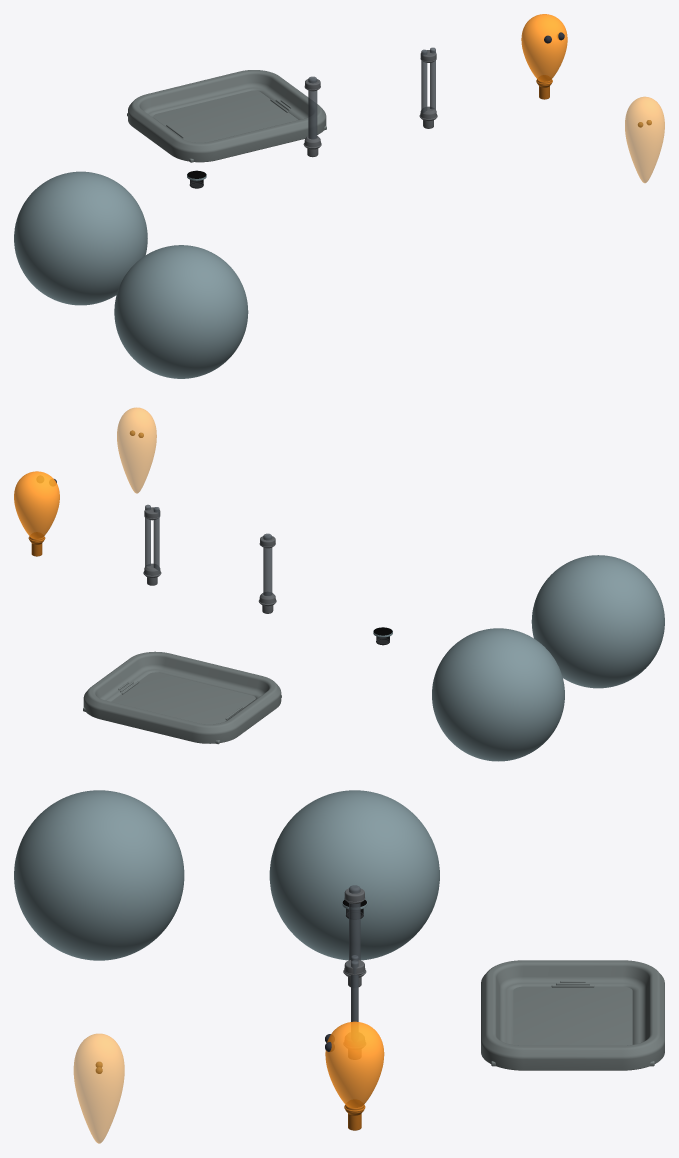
Rendered from studio-parts.glb.
3 renders of one model, top to bottom at view 1: azimuth 30°, elevation 25°; view 2: azimuth 150°, elevation 25°; view 3: azimuth 270°, elevation 25°, orthographic. The views are drawn at different scales.
Visible parts, largest first — view 1: Atom_cad, Atom_sculpt, Compartment_wall, Compartment_pad, Cad_lobe, Pair_lobe, Link_rail; view 2: Atom_sculpt, Atom_cad, Compartment_wall, Compartment_pad, Cad_lobe, Pair_lobe, Link_rail; view 3: Atom_cad, Atom_sculpt, Compartment_wall, Compartment_pad, Cad_lobe, Pair_lobe, Link_rail.
Part boxes in pixels (x1=…): Atom_cad: x1=114, y1=245, x2=248, y2=378; Atom_sculpt: x1=14, y1=171, x2=147, y2=305; Compartment_wall: x1=128, y1=70, x2=326, y2=162; Compartment_pad: x1=127, y1=90, x2=326, y2=162; Cad_lobe: x1=625, y1=96, x2=664, y2=182; Pair_lobe: x1=521, y1=14, x2=567, y2=81; Link_rail: x1=308, y1=76, x2=317, y2=139; Atom_sculpt: x1=432, y1=628, x2=564, y2=761; Atom_cad: x1=531, y1=555, x2=664, y2=688; Compartment_wall: x1=83, y1=651, x2=281, y2=743; Compartment_pad: x1=83, y1=672, x2=281, y2=744; Cad_lobe: x1=117, y1=407, x2=156, y2=493; Pair_lobe: x1=14, y1=471, x2=59, y2=538; Link_rail: x1=263, y1=533, x2=272, y2=595; Atom_cad: x1=14, y1=790, x2=184, y2=960; Atom_sculpt: x1=269, y1=790, x2=439, y2=960; Compartment_wall: x1=481, y1=960, x2=664, y2=1070; Compartment_pad: x1=491, y1=986, x2=654, y2=1066; Cad_lobe: x1=73, y1=1033, x2=124, y2=1143; Pair_lobe: x1=325, y1=1021, x2=384, y2=1107; Link_rail: x1=349, y1=885, x2=360, y2=960.
Size of the model in its own units: 9.34 by 2.8 by 7.64.
